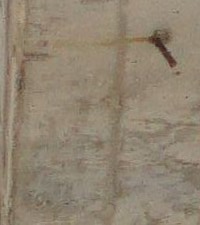Exposed reinforcement: (154, 37, 178, 69)
